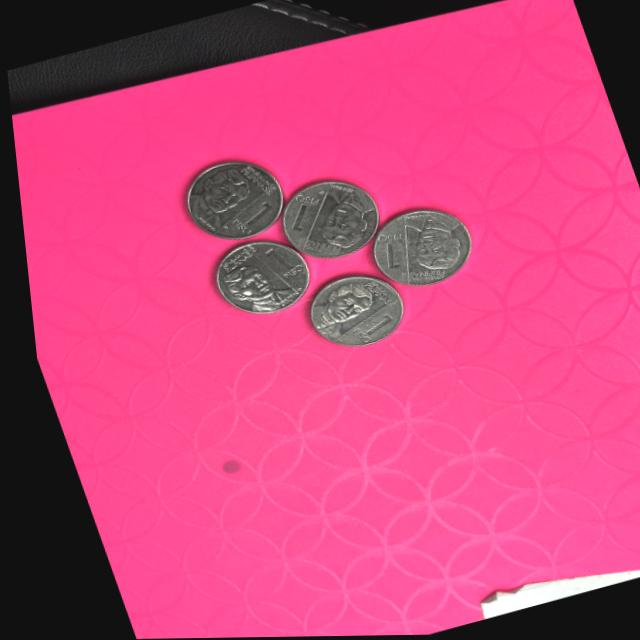1_New_Front: (252, 239, 300, 291), (337, 306, 394, 346), (224, 201, 280, 239), (279, 192, 323, 238), (365, 230, 406, 278)
